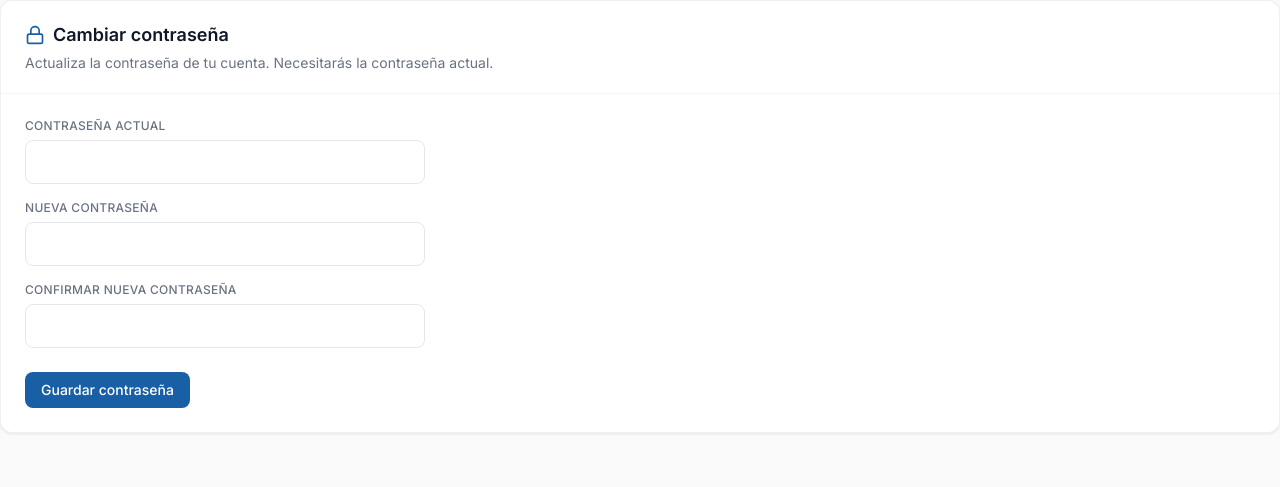
Scenario: CambiarPasswordPropioForm › muestra error si las contraseñas no coinciden
The image size is (1280, 487).
Type "Actual123!" into the password field labelled "Contraseña actual" at (225, 162), box left=25, top=140, right=425, bottom=184
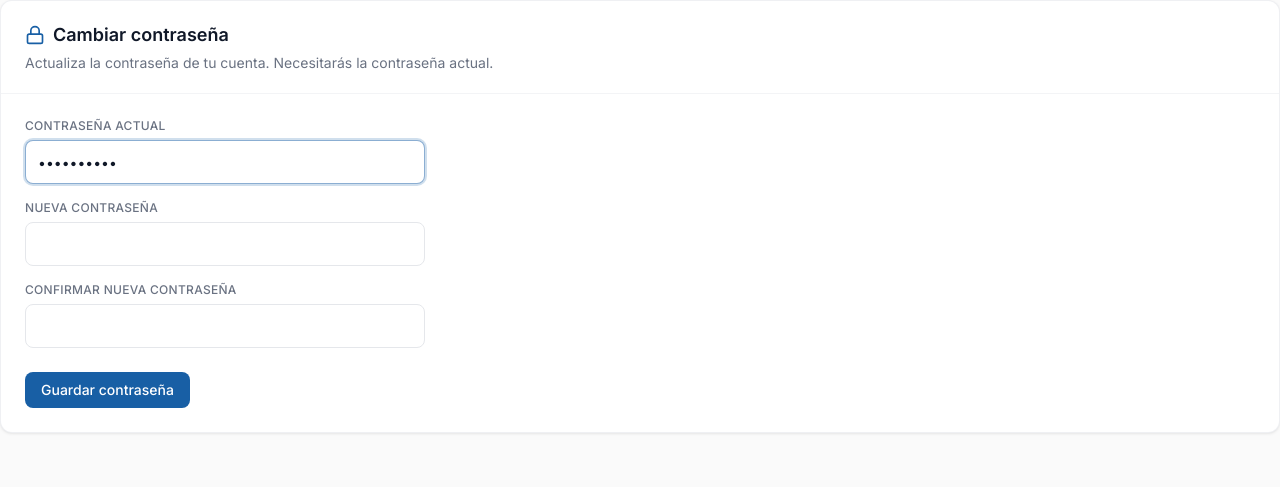
Type "Nueva12345!" into the password field labelled "Nueva contraseña" at (225, 244), box left=25, top=222, right=425, bottom=266
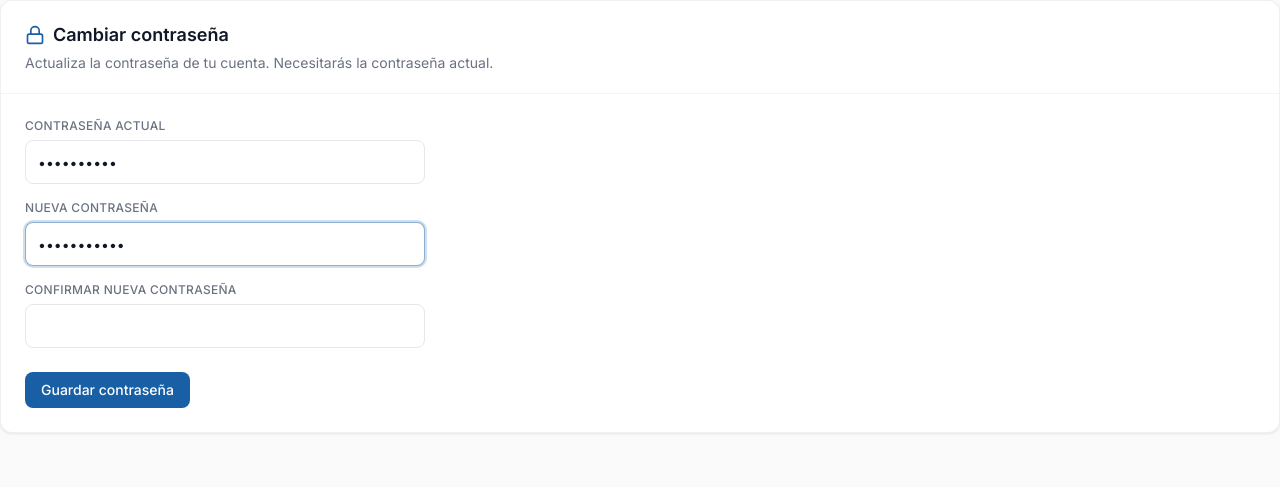
Type "Otra12345!" into the password field labelled "Confirmar nueva contraseña" at (225, 326), box left=25, top=304, right=425, bottom=348
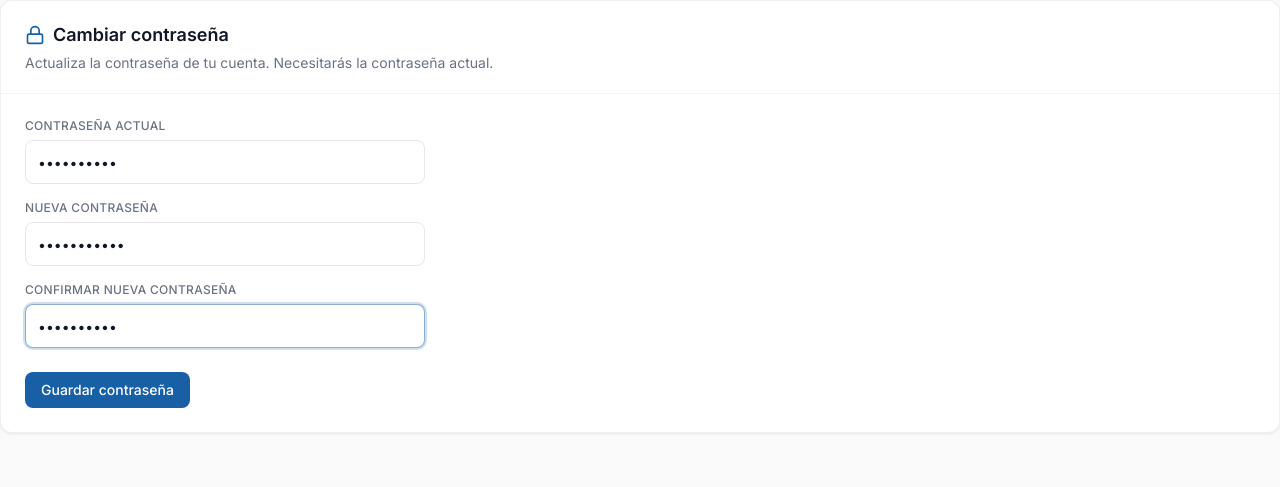
Click the button "Guardar contraseña" at (107, 390), box left=25, top=372, right=190, bottom=408
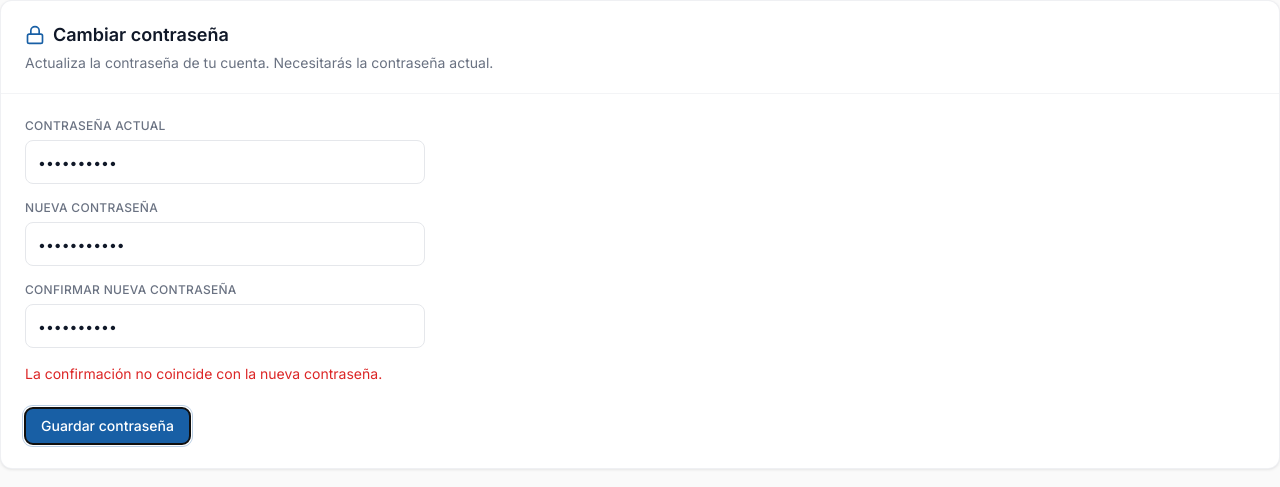
Now the message shows "no coincide", box left=25, top=365, right=382, bottom=382
